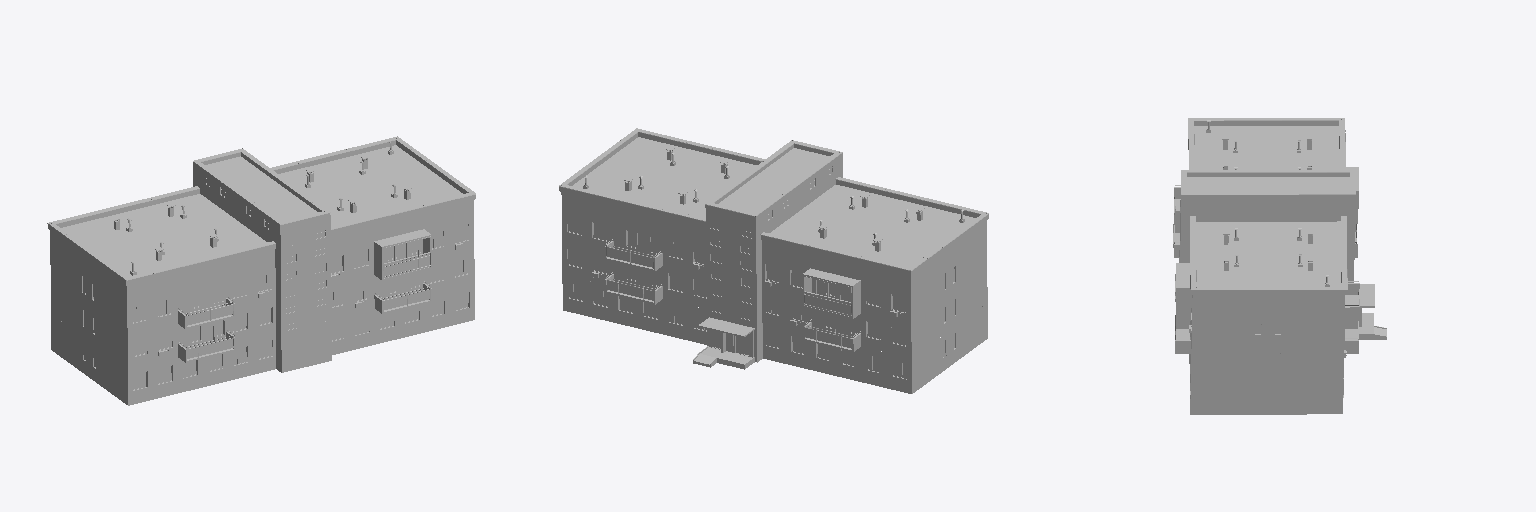
The model's file is Apartment.obj.
3 renders of one model, left to right at view 1: azimuth 30°, elevation 25°; view 2: azimuth 150°, elevation 25°; view 3: azimuth 270°, elevation 25°, orthographic.
Visible parts, largest first — view 1: LeftBase, RightBase, CentreBase, Balcony8, Balcony2, Balcony7, Balcony1; view 2: LeftBase, RightBase, CentreBase, Balcony3, FrontEnterance, Balcony6, Balcony4, Balcony5; view 3: RightBase, CentreBase, LeftBase, FrontEnterance, Balcony8, Balcony6.
Boxes of the visible parts, <box> form: LeftBase: <box>47,186,275,405</box>; RightBase: <box>270,136,475,354</box>; CentreBase: <box>193,148,331,372</box>; Balcony8: <box>374,229,431,280</box>; Balcony2: <box>178,330,235,362</box>; Balcony7: <box>374,281,431,313</box>; Balcony1: <box>178,297,234,328</box>; LeftBase: <box>760,177,988,393</box>; RightBase: <box>559,128,765,344</box>; CentreBase: <box>705,140,842,362</box>; Balcony3: <box>802,268,860,318</box>; FrontEnterance: <box>693,317,754,369</box>; Balcony6: <box>605,239,662,270</box>; Balcony4: <box>803,319,860,351</box>; Balcony5: <box>605,272,662,304</box>; RightBase: <box>1189,216,1347,414</box>; CentreBase: <box>1179,170,1355,282</box>; LeftBase: <box>1188,118,1345,169</box>; FrontEnterance: <box>1359,284,1386,339</box>; Balcony8: <box>1175,263,1191,320</box>; Balcony6: <box>1345,281,1359,320</box>.
Size of the model in its own units: 677 by 271 by 355.